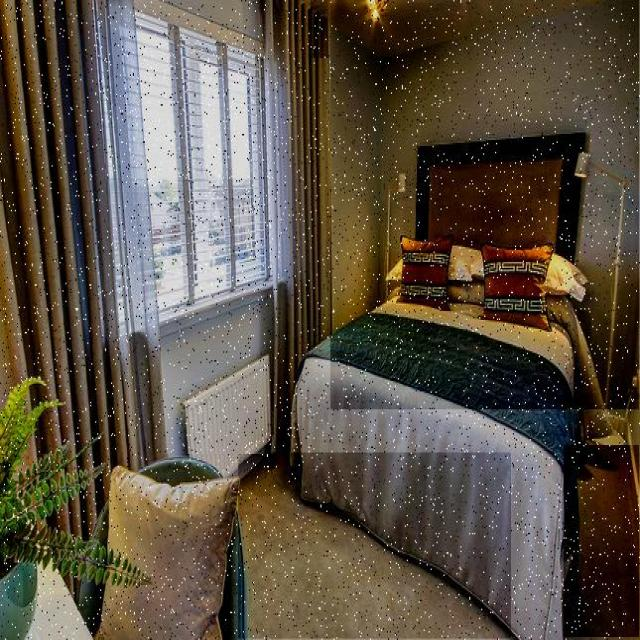Wall: (331, 0, 639, 409), (238, 453, 511, 639), (161, 297, 273, 454), (311, 0, 601, 58), (564, 446, 640, 637), (576, 172, 620, 390)
